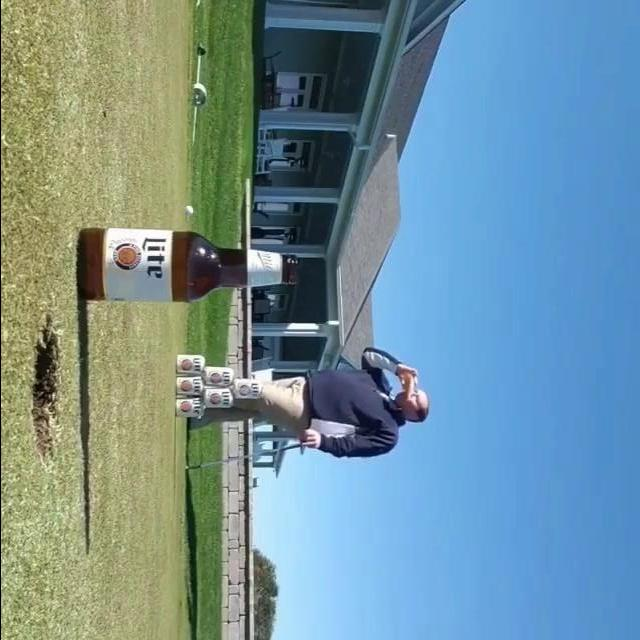golf ball: (184, 205, 193, 216)
golf club-handle: (184, 443, 305, 471)
golf club-head: (299, 443, 305, 455)
